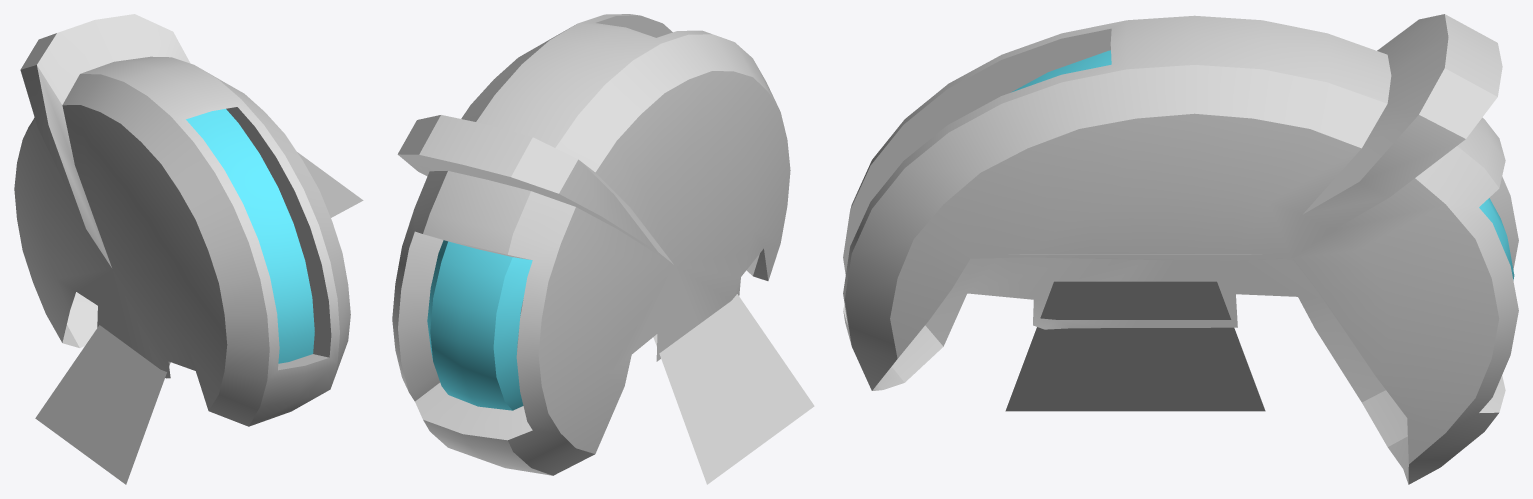
File: Mod_Pauldron_R_Yuri2.fbx
3 views of the same model, side by side, from view 1: azimuth 30°, elevation 25°; view 2: azimuth 150°, elevation 25°; view 3: azimuth 270°, elevation 25° (orthographic). The views are drawn at different scales.
Visible parts, largest first — view 1: Mod_Pauldron_R_Yuri2; view 2: Mod_Pauldron_R_Yuri2; view 3: Mod_Pauldron_R_Yuri2.
Part boxes in pixels (<box>): Mod_Pauldron_R_Yuri2: <box>14,14,363,484</box>; Mod_Pauldron_R_Yuri2: <box>392,14,814,484</box>; Mod_Pauldron_R_Yuri2: <box>843,14,1518,484</box>.
Size of the model in its own units: 218 by 282 by 375.
